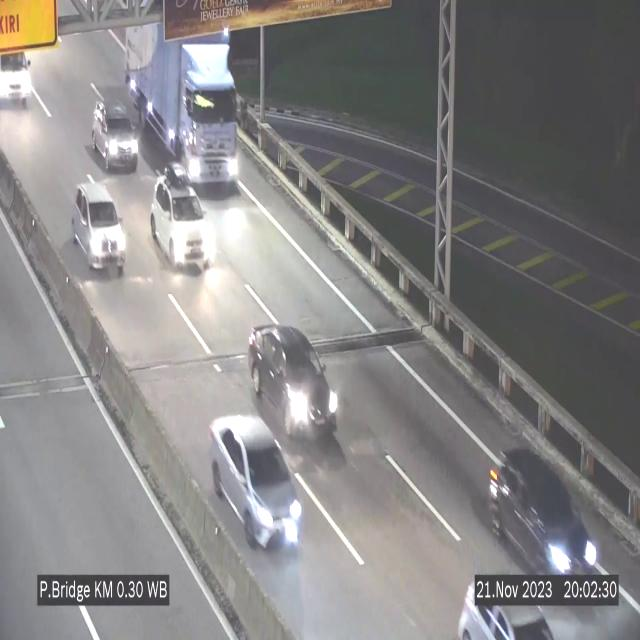Car: (489, 447, 599, 574), (210, 416, 302, 547), (250, 326, 338, 447), (453, 560, 567, 640), (151, 172, 213, 271), (72, 182, 126, 274), (0, 33, 46, 119), (92, 100, 138, 172)
Truck: (125, 20, 237, 184)
